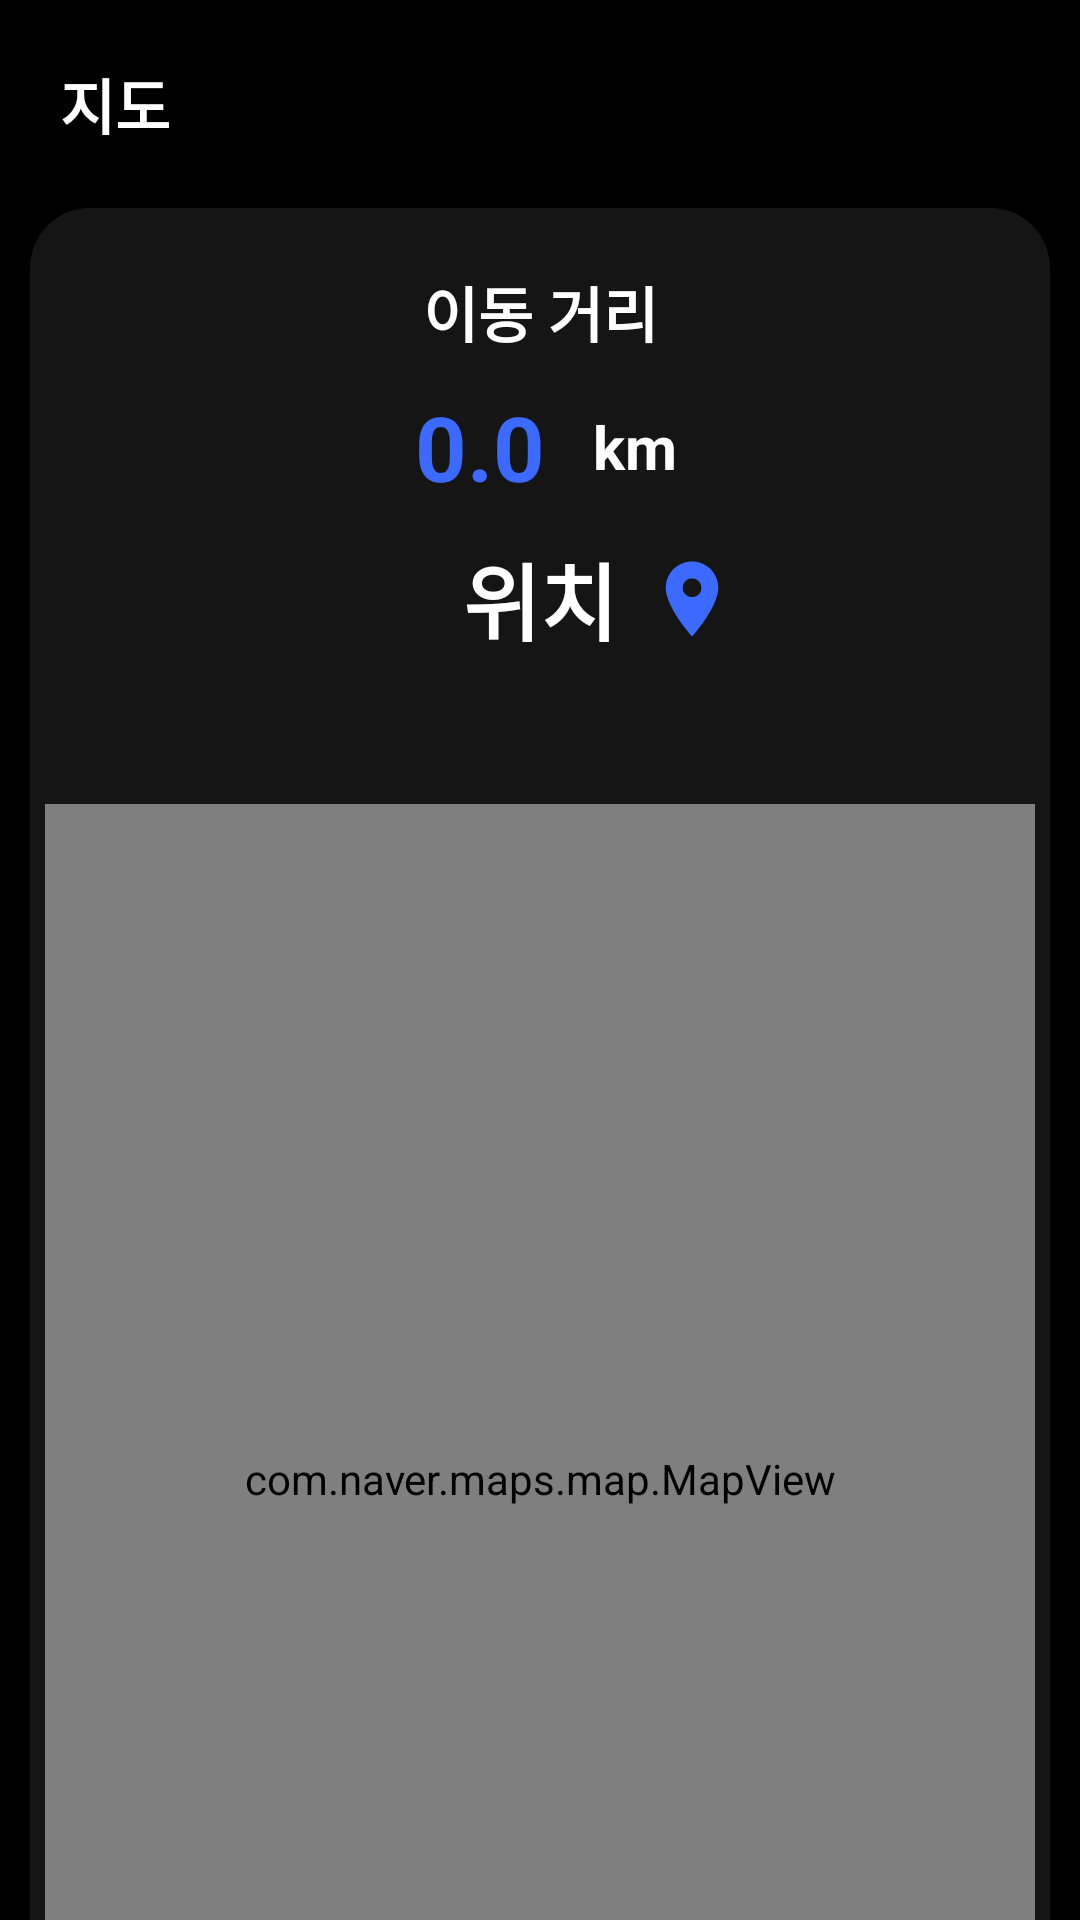

Named icons in this screenshot (1080×1920) and their bounding boxes, (left=x1, top=y1, right=x2, bottom=y2):
location: (left=665, top=561, right=719, bottom=636)
